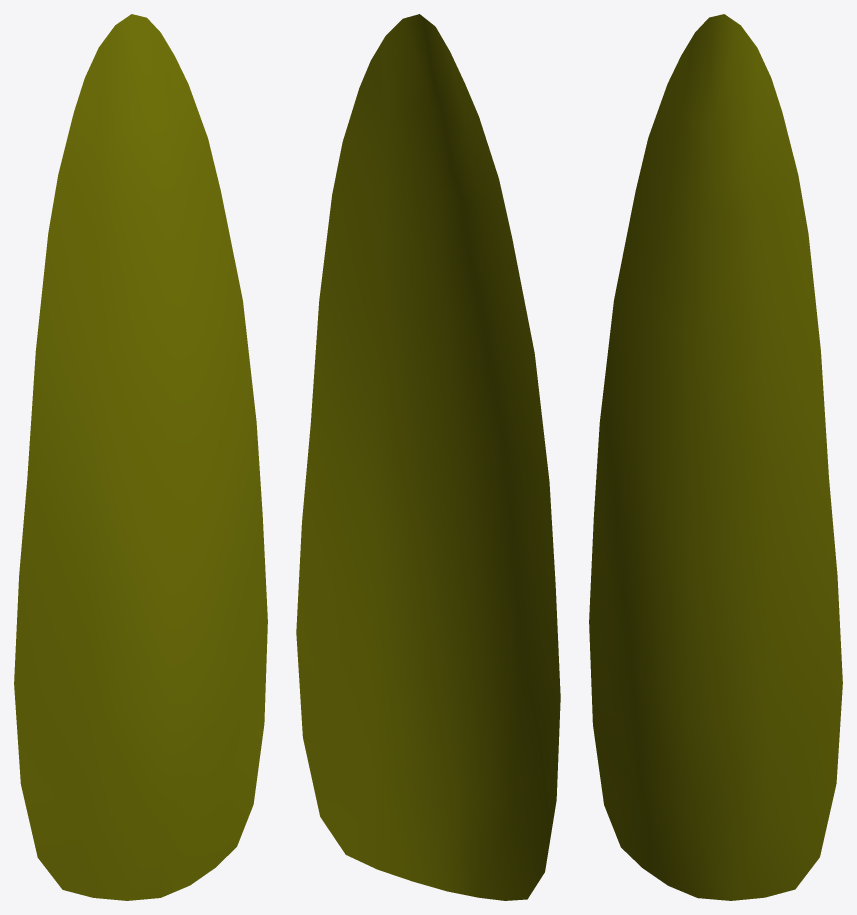
The model's file is MD_nail_point_HandL.Middle.fbx.
3 views of the same model, side by side, from view 1: azimuth 30°, elevation 25°; view 2: azimuth 150°, elevation 25°; view 3: azimuth 330°, elevation 25° (orthographic). The views are drawn at different scales.
Visible parts, largest first — view 1: MD_nail_point_HandL.Middle; view 2: MD_nail_point_HandL.Middle; view 3: MD_nail_point_HandL.Middle.
Boxes of the visible parts, x1=… form: MD_nail_point_HandL.Middle: x1=14, y1=14, x2=267, y2=900; MD_nail_point_HandL.Middle: x1=296, y1=14, x2=560, y2=900; MD_nail_point_HandL.Middle: x1=589, y1=14, x2=842, y2=900.
Size of the model in its own units: 0.7587 by 2.47 by 0.2005.
